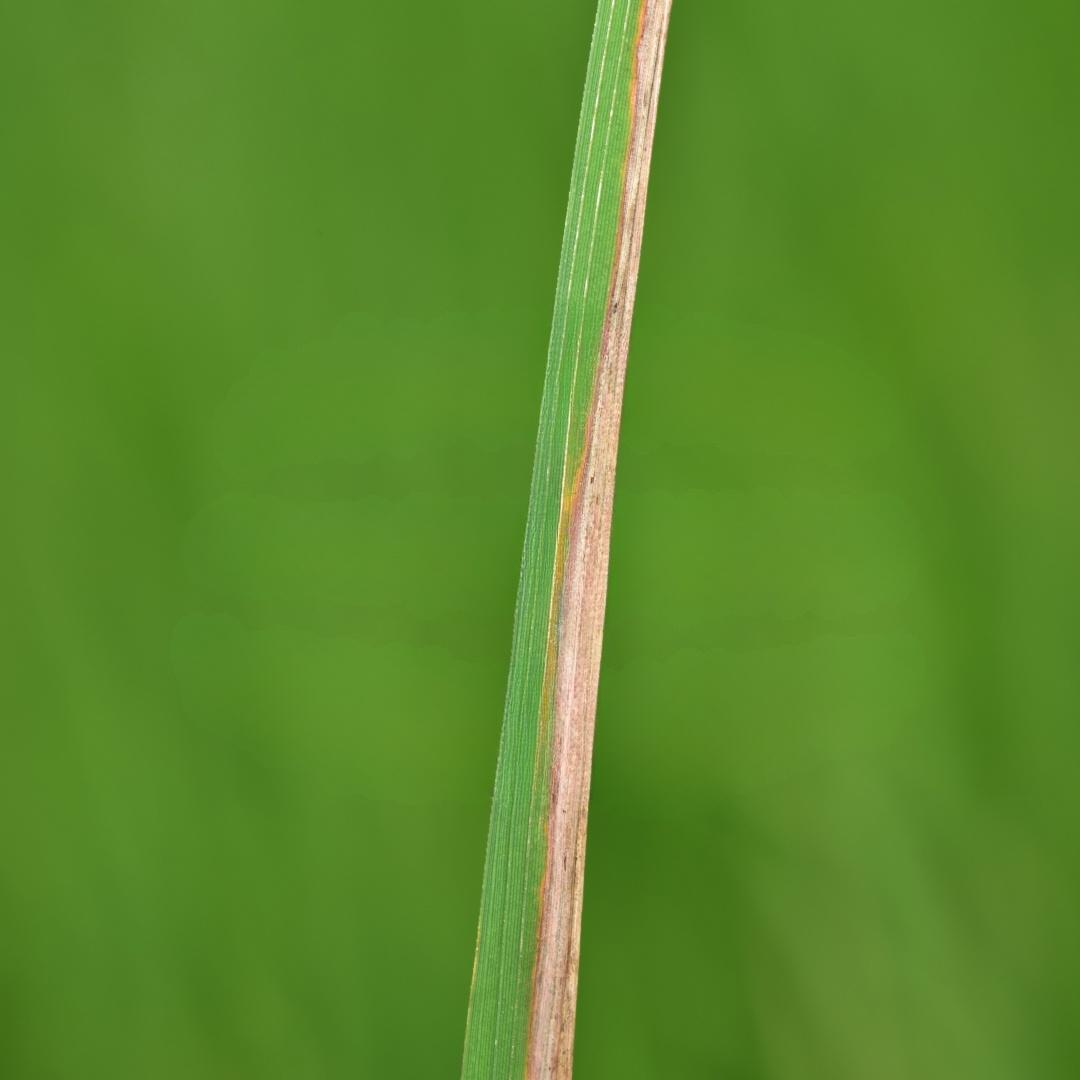BLB: (524, 0, 670, 1078)
LEAF: (462, 0, 672, 1079)
